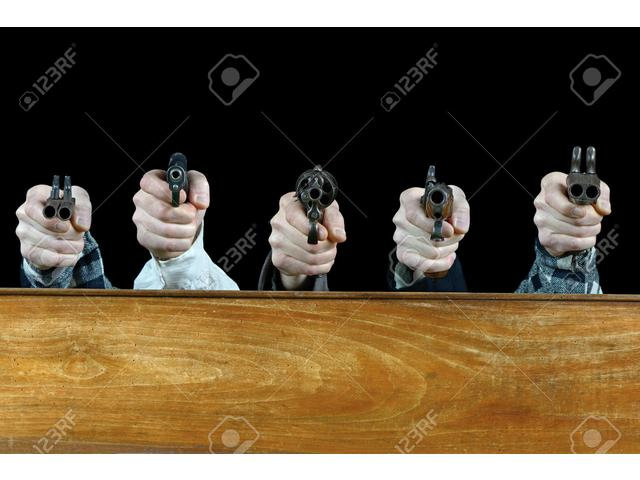pistol: (543, 166, 612, 268), (410, 172, 461, 284), (287, 165, 336, 275), (155, 150, 199, 260)
